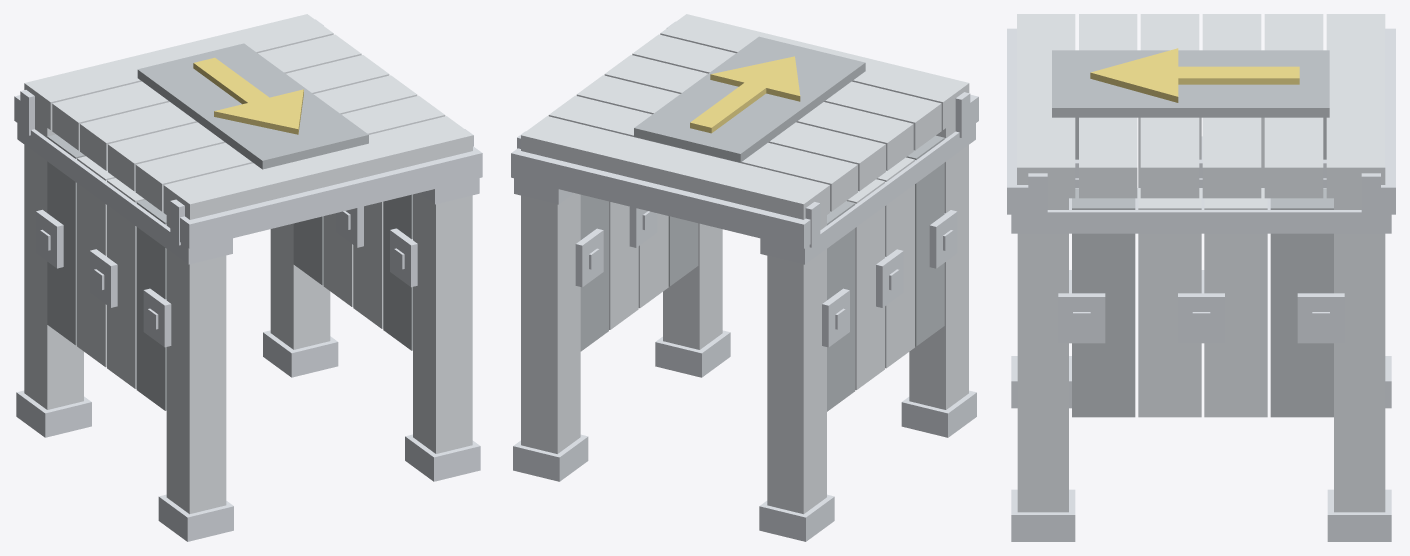
Rendered from item_hopper.gltf.
3 views of the same model, side by side, from view 1: azimuth 30°, elevation 25°; view 2: azimuth 150°, elevation 25°; view 3: azimuth 270°, elevation 25° (orthographic). The views are drawn at different scales.
Size of the model in its own units: 0.904 by 1.01 by 0.91.
